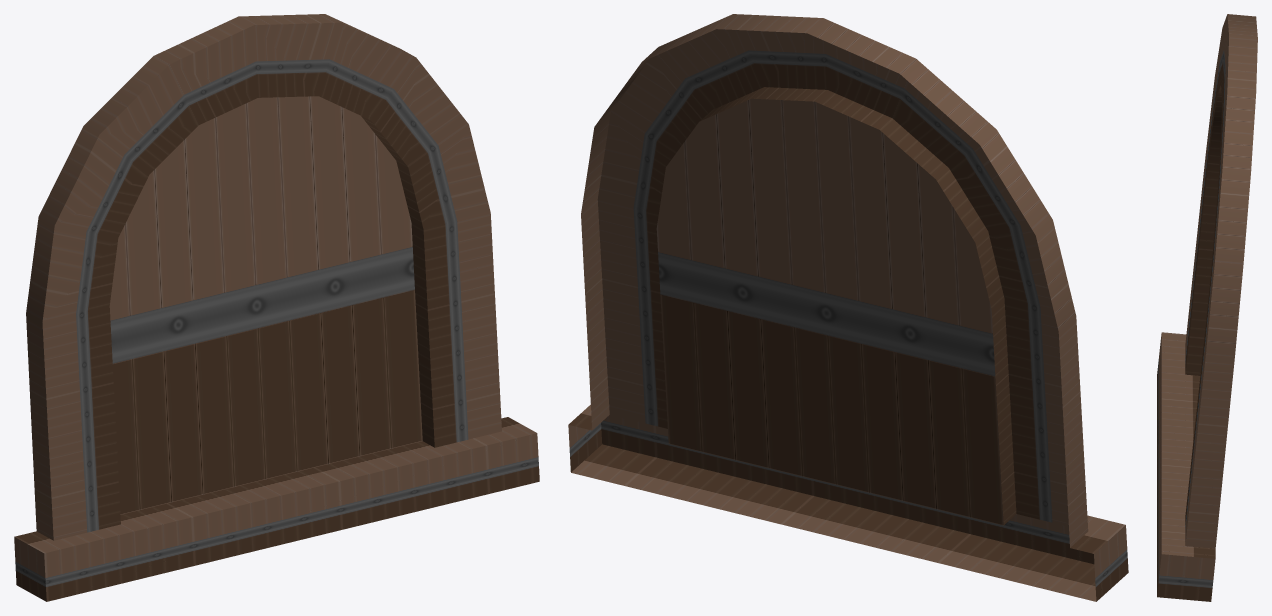
Rendered from Window.fbx.
The picture shows the model from 3 angles, left to right: view 1: azimuth 30°, elevation 25°; view 2: azimuth 150°, elevation 25°; view 3: azimuth 270°, elevation 25°; orthographic projection. The views are drawn at different scales.
Parts seen in each view (by area): view 1: Cylinder.039; view 2: Cylinder.039; view 3: Cylinder.039.
Boxes of the visible parts, <box> form: Cylinder.039: <box>14,14,539,601</box>; Cylinder.039: <box>568,14,1128,601</box>; Cylinder.039: <box>1157,14,1257,601</box>.
Bounding box in the file's own units: 220 × 210 × 42.29.
